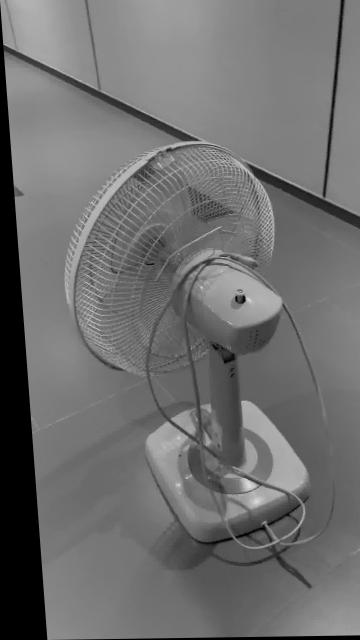Fan: (60, 142, 304, 547)
